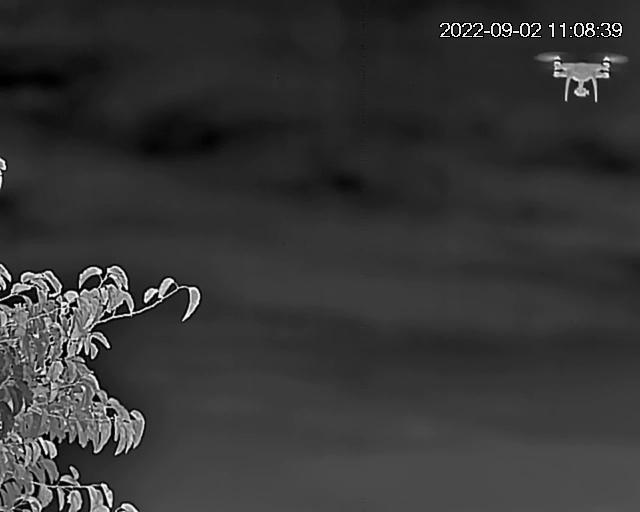DJI-Phantom: (538, 51, 620, 106)
